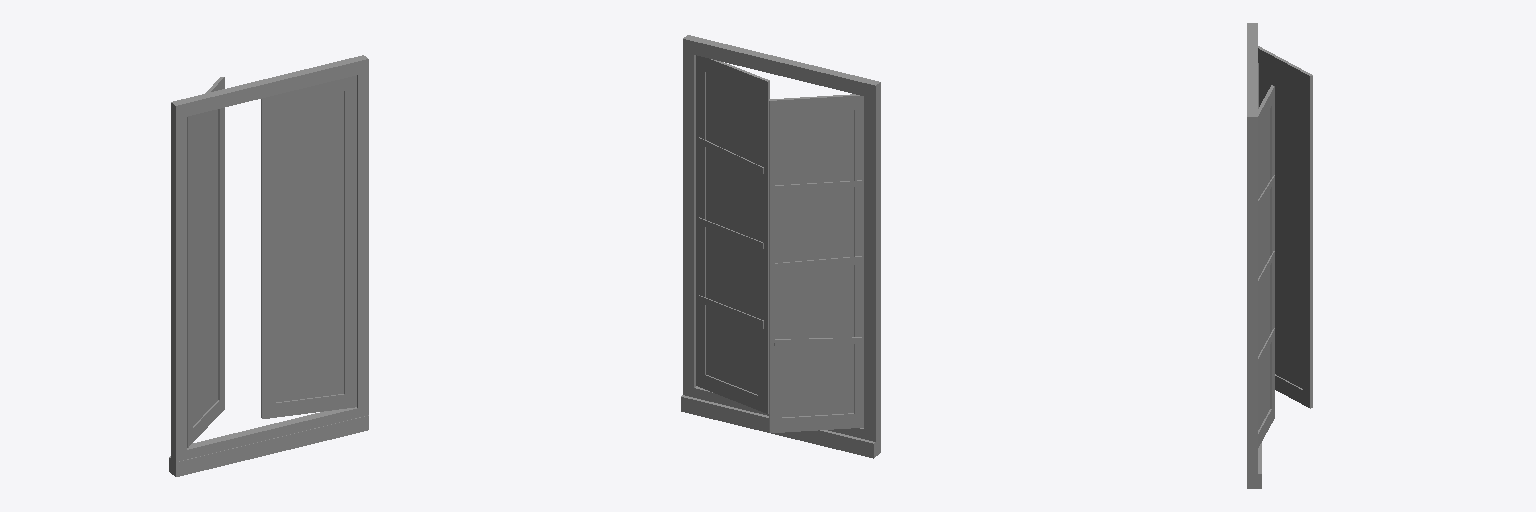
The model's file is okno.obj.
3 renders of one model, left to right at view 1: azimuth 30°, elevation 25°; view 2: azimuth 150°, elevation 25°; view 3: azimuth 270°, elevation 25°, orthographic.
Visible parts, largest first — view 1: Cube.043, Cube.046_Cube.048, Cube.045_Cube.047; view 2: Cube.045_Cube.047, Cube.043, Cube.046_Cube.048; view 3: Cube.045_Cube.047, Cube.043, Cube.046_Cube.048.
Boxes of the visible parts, x1=… form: Cube.043: x1=261, y1=75, x2=356, y2=418; Cube.046_Cube.048: x1=169, y1=55, x2=368, y2=476; Cube.045_Cube.047: x1=187, y1=77, x2=224, y2=447; Cube.045_Cube.047: x1=769, y1=94, x2=863, y2=432; Cube.043: x1=696, y1=55, x2=769, y2=413; Cube.046_Cube.048: x1=681, y1=35, x2=880, y2=458; Cube.045_Cube.047: x1=1258, y1=46, x2=1312, y2=408; Cube.043: x1=1258, y1=85, x2=1274, y2=447; Cube.046_Cube.048: x1=1247, y1=23, x2=1261, y2=488.
Size of the model in its own units: 0.8796 by 1.62 by 0.2637.